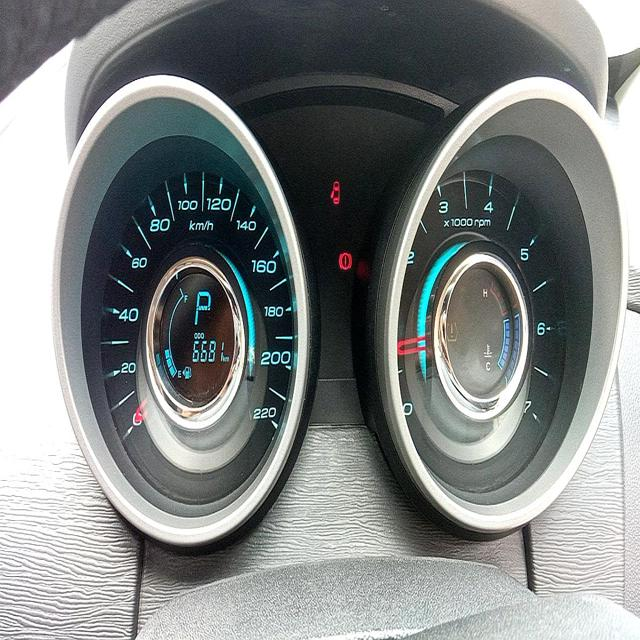odometer: (186, 338, 230, 368)
